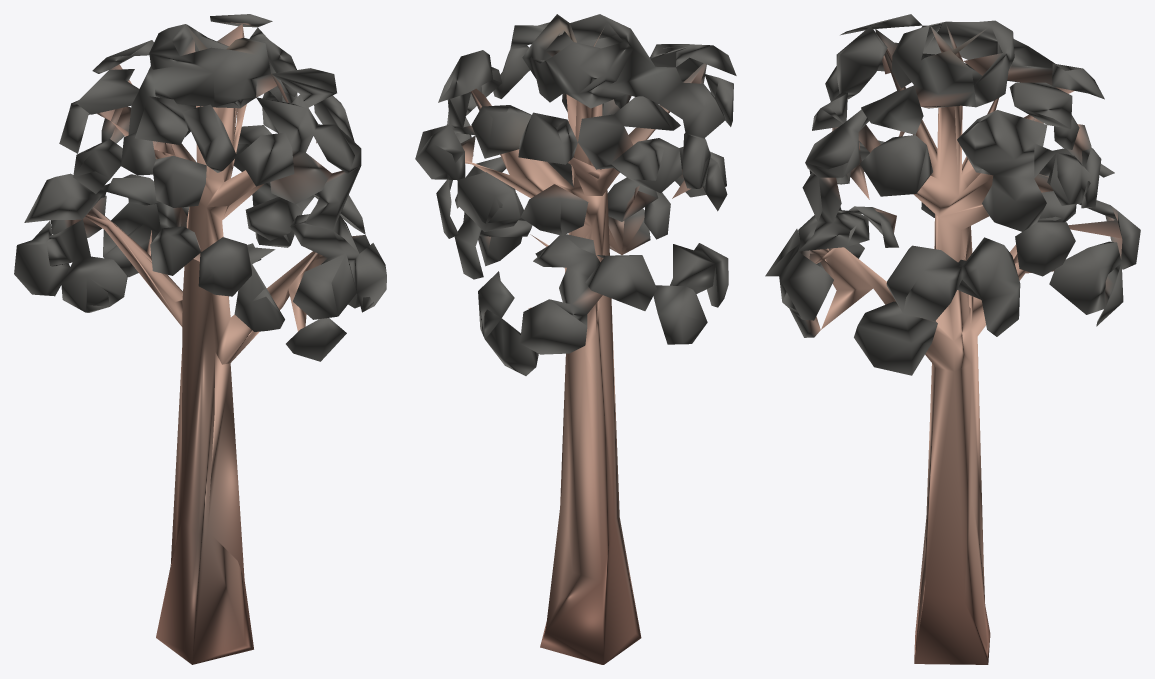
File: gen3d-eucalyptus-tree-lod1.glb
3 views of the same model, side by side, from view 1: azimuth 30°, elevation 25°; view 2: azimuth 150°, elevation 25°; view 3: azimuth 270°, elevation 25° (orthographic). The views are drawn at different scales.
Visible parts, largest first — view 1: part_0; view 2: part_0; view 3: part_0.
Part boxes in pixels (x1=…): part_0: x1=14, y1=14, x2=386, y2=664; part_0: x1=415, y1=14, x2=736, y2=664; part_0: x1=765, y1=14, x2=1140, y2=664.
Size of the model in its own units: 0.4829 by 0.9986 by 0.5439.
